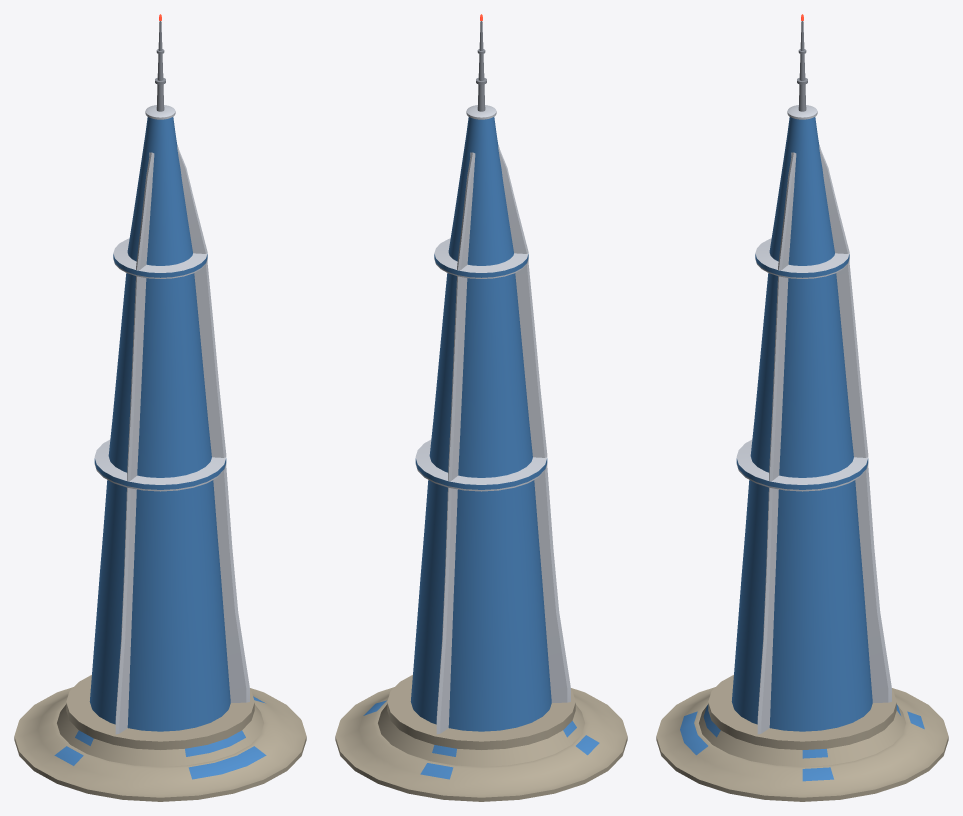
Rendered from Kit_Spire.glb.
3 renders of one model, left to right at view 1: azimuth 30°, elevation 25°; view 2: azimuth 150°, elevation 25°; view 3: azimuth 270°, elevation 25°, orthographic.
Visible parts, largest first — view 1: Kit_Spire; view 2: Kit_Spire; view 3: Kit_Spire.
Part boxes in pixels (x1,y1,x2,y2): Kit_Spire: [14, 14, 306, 801]; Kit_Spire: [335, 14, 627, 801]; Kit_Spire: [656, 14, 948, 801].
Size of the model in its own units: 124 by 340 by 124.
